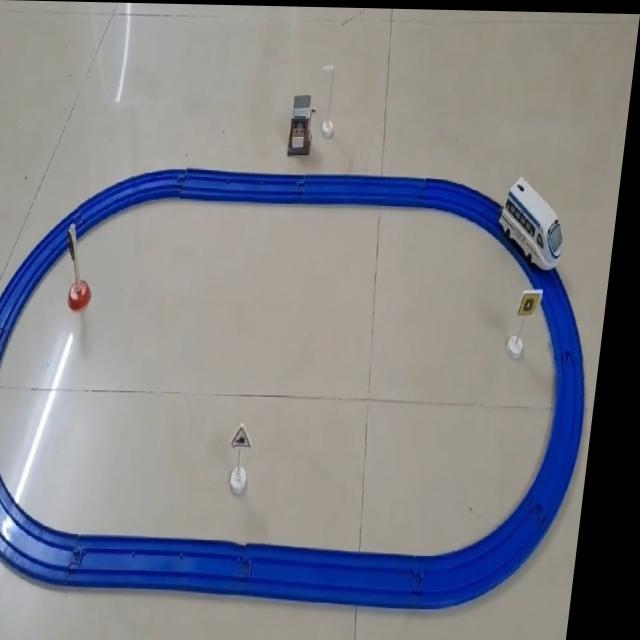bus: (499, 171, 575, 269)
